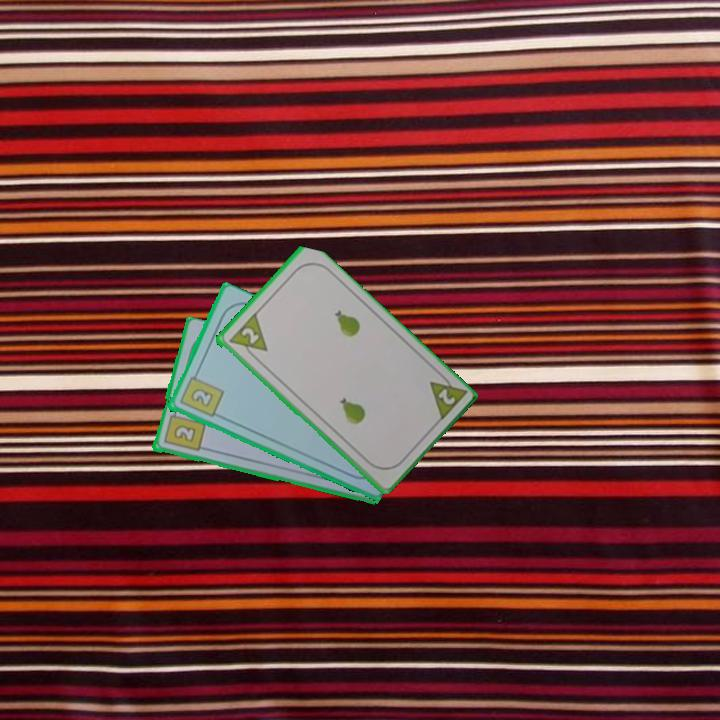2b: (176, 368, 226, 420), (160, 406, 207, 454)
2p: (425, 368, 469, 425), (225, 311, 270, 364)
